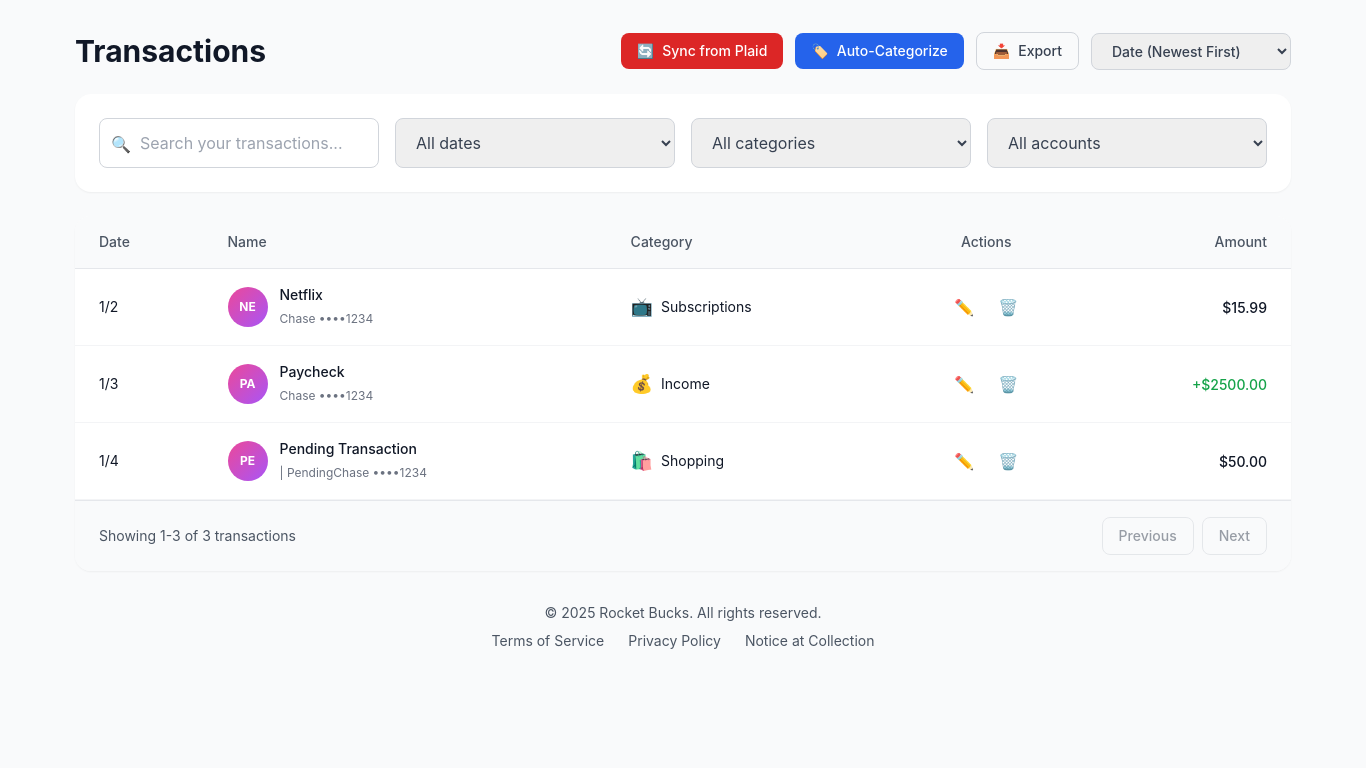
Test case: Transactions page › auto-categorizes transactions
Check: the text "Netflix" is shown, box top-left (280, 286), bottom-right (323, 303)
Click the button "🏷️ Auto-Categorize": {"x": 880, "y": 51} top-left (795, 33), bottom-right (964, 69)
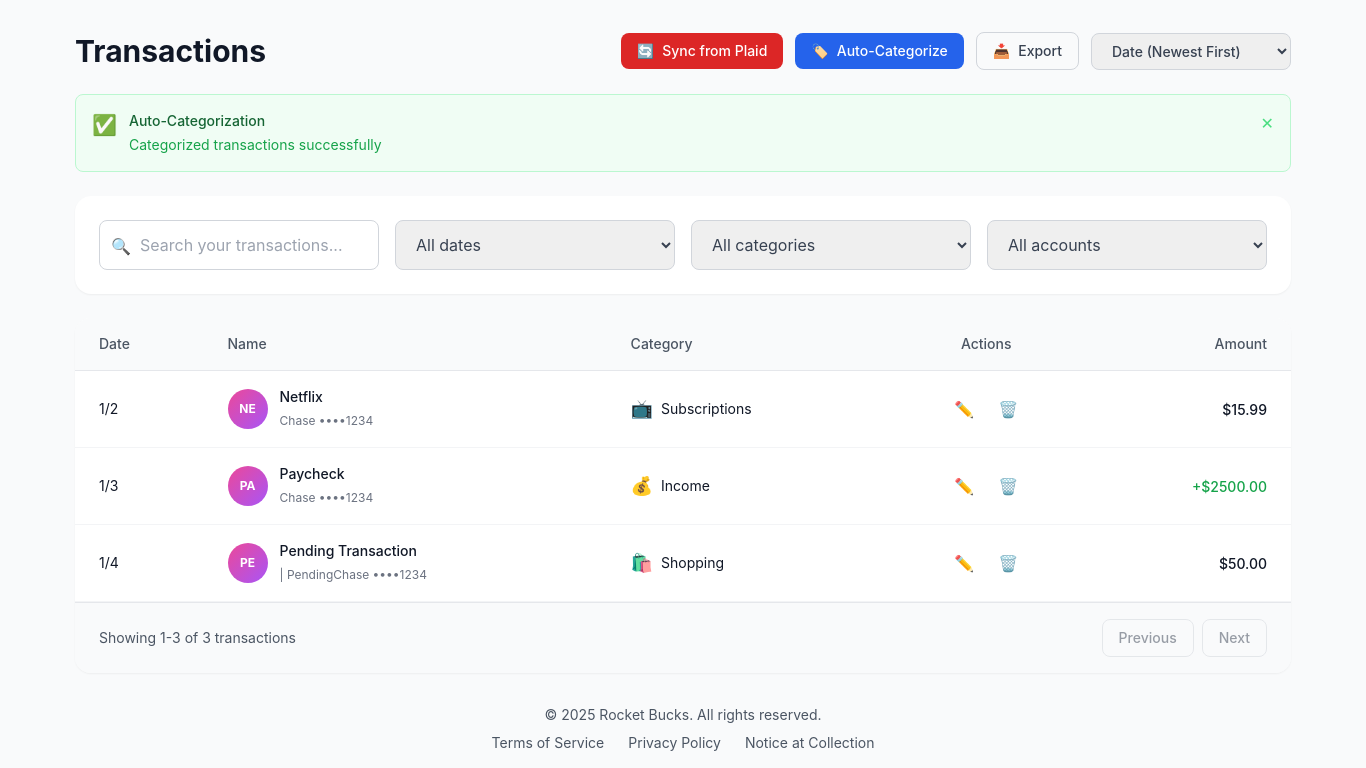
Check: the text "Categorized transactions successfully" is shown, box top-left (129, 136), bottom-right (382, 153)
